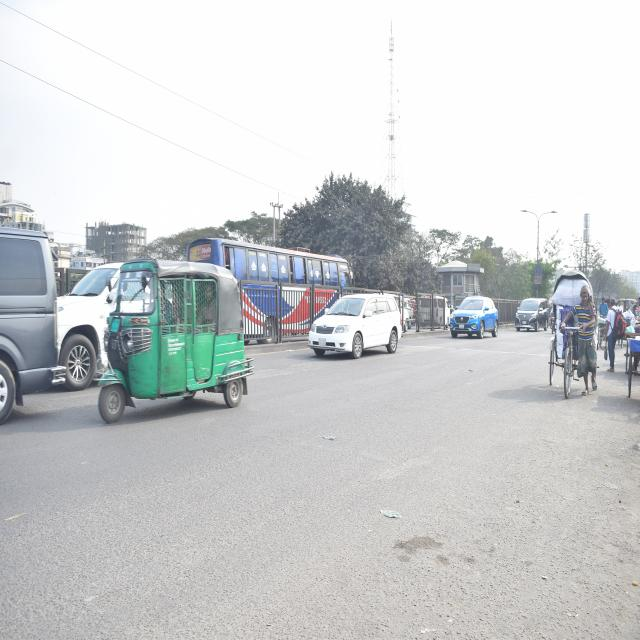car: (53, 258, 129, 394), (305, 288, 402, 370), (445, 287, 501, 344), (510, 292, 552, 332)
microbus: (0, 222, 60, 418)
